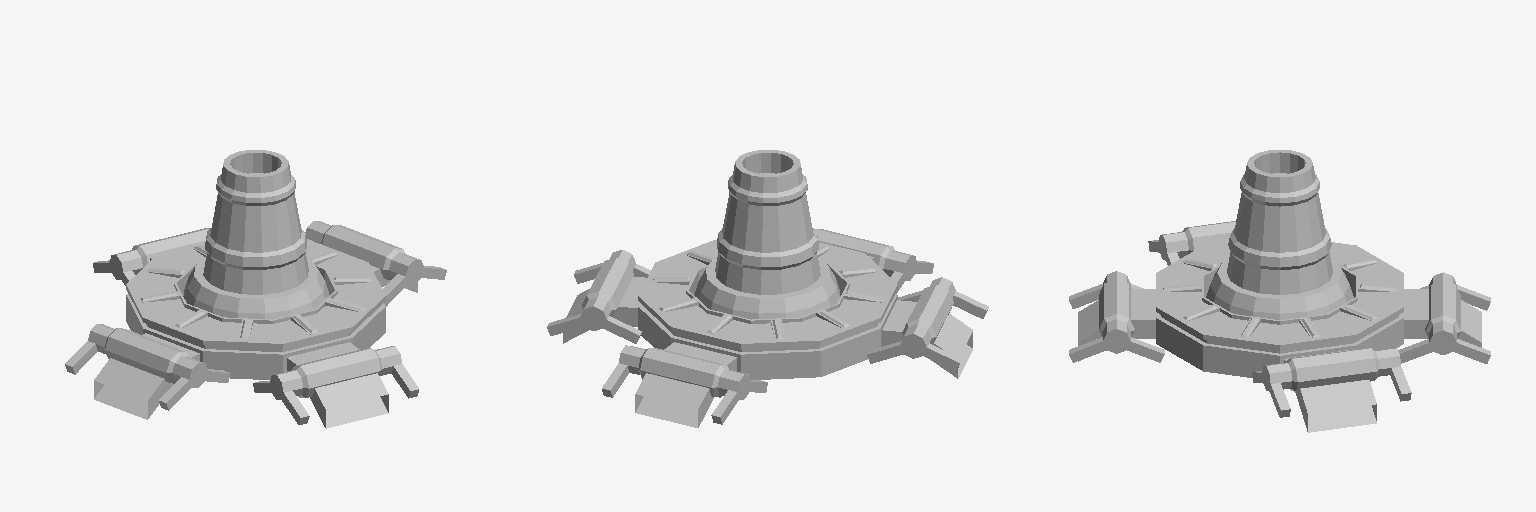
Rendered from Bp_Turret.obj.
3 views of the same model, side by side, from view 1: azimuth 30°, elevation 25°; view 2: azimuth 150°, elevation 25°; view 3: azimuth 270°, elevation 25° (orthographic).
Visible parts, largest first — view 1: BP_Turret_Base, BP_Turret_Gun; view 2: BP_Turret_Base, BP_Turret_Gun; view 3: BP_Turret_Base, BP_Turret_Gun.
Part boxes in pixels (left/top/right/bottom): BP_Turret_Base: left=65, top=221, right=446, bottom=428; BP_Turret_Gun: left=183, top=150, right=329, bottom=319; BP_Turret_Base: left=547, top=229, right=988, bottom=427; BP_Turret_Gun: left=694, top=150, right=840, bottom=319; BP_Turret_Base: left=1069, top=221, right=1490, bottom=432; BP_Turret_Gun: left=1206, top=150, right=1353, bottom=319.
Size of the model in its own units: 339 by 157 by 324.